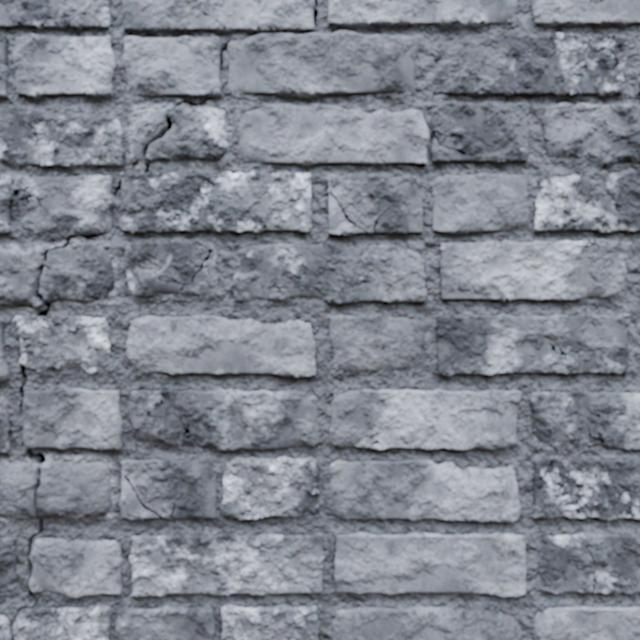broken_brick: (0, 243, 114, 307), (0, 461, 111, 519), (132, 106, 227, 164)
crack: (0, 117, 312, 249), (122, 0, 418, 108), (13, 250, 122, 493), (0, 496, 121, 639), (129, 533, 324, 597), (433, 33, 626, 97), (334, 532, 526, 596), (231, 242, 427, 304), (330, 459, 520, 522), (440, 239, 631, 301), (437, 314, 630, 375), (126, 315, 315, 377), (330, 389, 521, 450), (238, 104, 429, 165), (129, 389, 319, 450), (0, 105, 134, 168), (12, 34, 115, 99), (533, 457, 639, 520), (534, 172, 639, 232), (541, 103, 639, 167), (332, 606, 521, 639), (220, 457, 319, 520), (530, 392, 639, 449), (538, 533, 639, 594), (430, 102, 528, 162), (119, 459, 215, 520), (328, 174, 422, 235), (432, 174, 529, 233), (329, 315, 424, 371), (124, 241, 217, 298), (328, 0, 517, 27), (533, 606, 639, 639), (221, 604, 319, 639), (0, 0, 110, 31), (116, 605, 214, 639), (532, 0, 639, 26), (0, 537, 17, 592), (0, 35, 9, 98), (0, 396, 10, 452), (0, 322, 8, 381)
